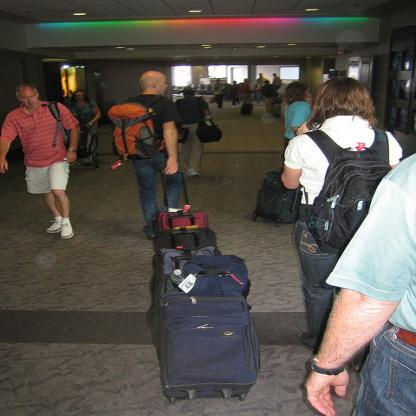backpack: (303, 128, 392, 257), (108, 94, 167, 169), (170, 254, 249, 295), (253, 172, 303, 227), (47, 101, 72, 150), (264, 85, 273, 97)
handbag: (48, 101, 101, 159), (195, 95, 224, 143)
suitcase: (159, 295, 260, 404), (148, 246, 222, 359), (252, 171, 303, 228), (155, 227, 217, 252), (151, 211, 211, 233), (270, 103, 281, 118), (241, 103, 253, 115)
